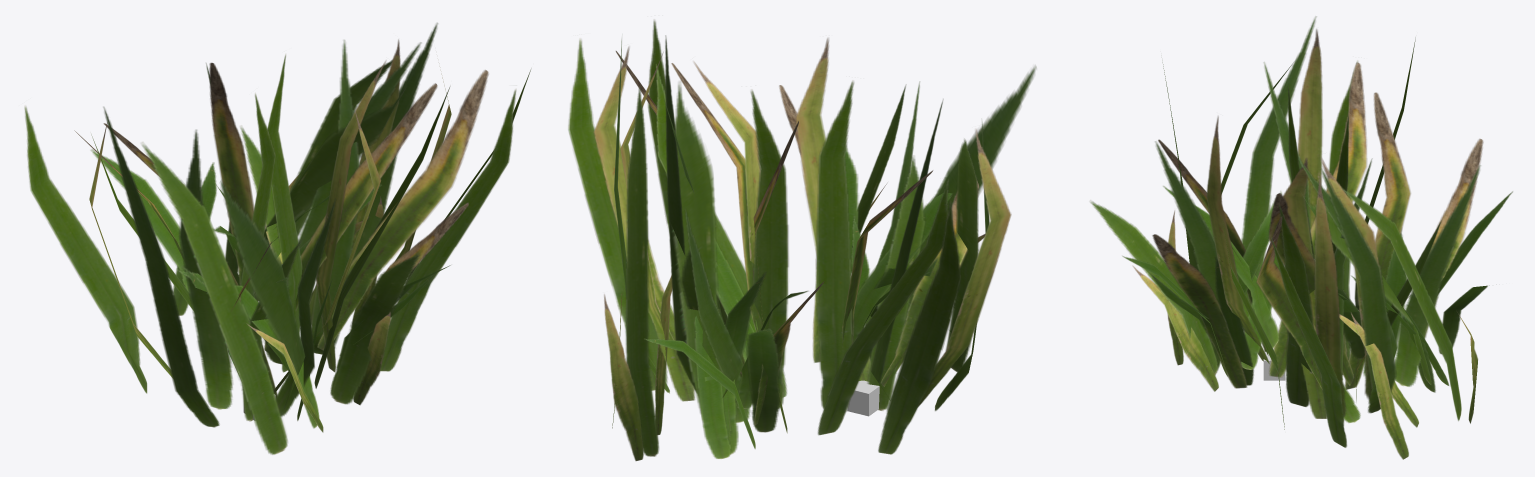
The model's file is grass2.glb.
3 renders of one model, left to right at view 1: azimuth 30°, elevation 25°; view 2: azimuth 150°, elevation 25°; view 3: azimuth 270°, elevation 25°, orthographic. The views are drawn at different scales.
Parts seen in each view (by area): view 1: grass_varient_2; view 2: grass_varient_2, Cube; view 3: grass_varient_2.
Boxes of the visible parts, left/top/right/bottom form: grass_varient_2: left=24, top=23, right=531, bottom=454; grass_varient_2: left=568, top=19, right=1036, bottom=460; Cube: left=847, top=380, right=879, bottom=416; grass_varient_2: left=1090, top=16, right=1512, bottom=459.
Size of the model in its own units: 44.16 by 31.92 by 40.79.
2 materials, 1 textured.
